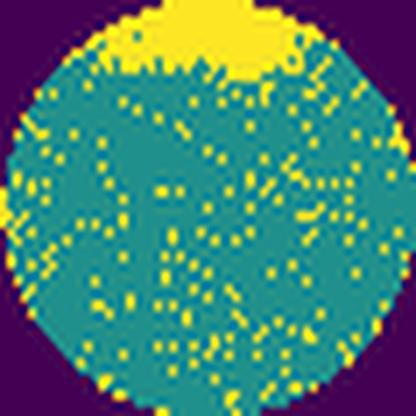Edge-Loc: (62, 0, 325, 82)
